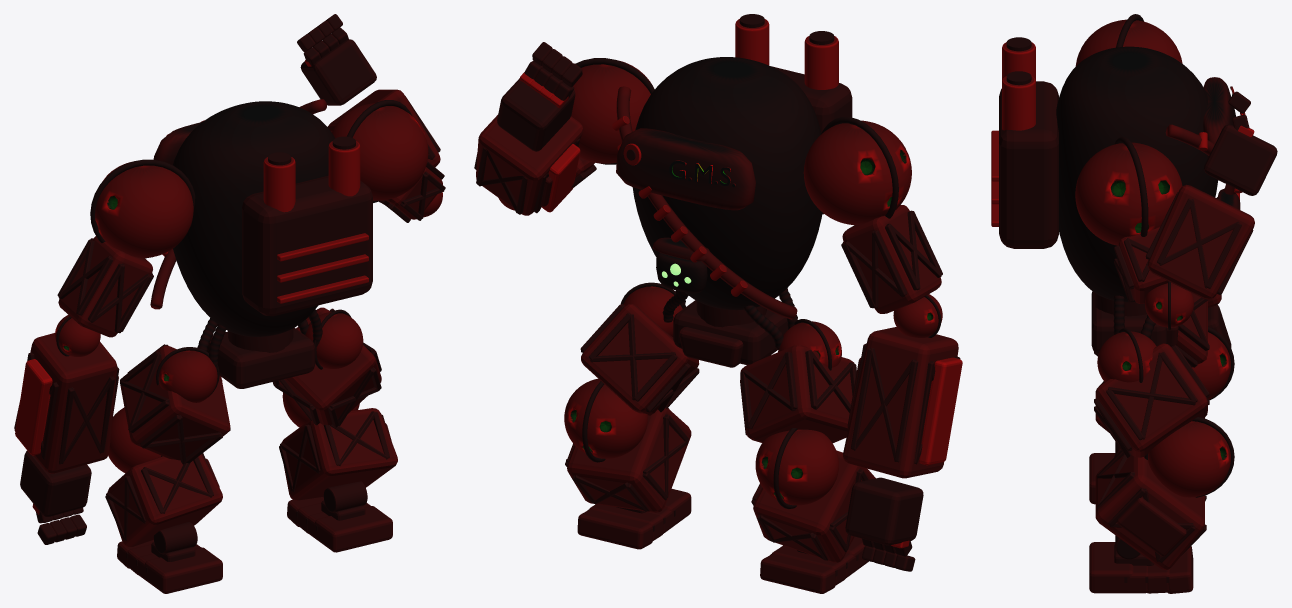
Rendered from mf_standard_pattern_i_everest.glb.
The picture shows the model from 3 angles, left to right: view 1: azimuth 30°, elevation 25°; view 2: azimuth 150°, elevation 25°; view 3: azimuth 270°, elevation 25°; orthographic projection. The views are drawn at different scales.
Parts seen in each view (by area): view 1: chest, reactor, shoulder_pod_l, fore_l, shoulder_pod_r, shin_r, shin_l, thigh_l, pelvis_block, upper_l, thigh_r, palm_r (+21 smaller); view 2: chest, fore_l, shoulder_pod_l, chest_plate, thigh_l, shin_r, thigh_r, shoulder_pod_r, knee_pod_l, shin_l, fore_r, knee_pod_r (+26 smaller); view 3: chest, reactor, shoulder_pod_r, fore_r, thigh_r, shin_r, knee_pod_r, palm_r, shoulder_pod_l, shin_r_plate, hip_pod_r, heel_r (+27 smaller).
Part boxes in pixels (box(x1,y1,x2,y2)): chest: box(173, 101, 334, 336); reactor: box(242, 175, 372, 316); shoulder_pod_l: box(95, 162, 193, 257); fore_l: box(14, 333, 117, 473); shoulder_pod_r: box(332, 103, 428, 200); shin_r: box(281, 408, 397, 500); shin_l: box(107, 454, 222, 547); thigh_l: box(120, 345, 230, 460); pelvis_block: box(207, 328, 315, 388); upper_l: box(58, 236, 152, 337); thigh_r: box(278, 307, 381, 425); palm_r: box(300, 39, 376, 105); chest: box(632, 57, 822, 310); fore_l: box(843, 327, 958, 478); shoulder_pod_l: box(803, 120, 911, 225); chest_plate: box(616, 128, 755, 210); thigh_l: box(740, 345, 854, 443); shin_r: box(567, 408, 691, 512); thigh_r: box(581, 304, 699, 415); shoulder_pod_r: box(571, 60, 652, 163); knee_pod_l: box(755, 429, 838, 505); shin_l: box(753, 450, 875, 562); fore_r: box(476, 115, 583, 215); knee_pod_r: box(564, 378, 647, 458); chest: box(1056, 46, 1218, 302); reactor: box(999, 81, 1058, 248); shoulder_pod_r: box(1075, 142, 1182, 245); fore_r: box(1147, 184, 1254, 299); thigh_r: box(1095, 343, 1207, 457); shin_r: box(1095, 454, 1204, 569); knee_pod_r: box(1148, 421, 1230, 497); palm_r: box(1204, 124, 1277, 195); shoulder_pod_l: box(1075, 19, 1182, 66); shin_r_plate: box(1117, 497, 1186, 556); hip_pod_r: box(1097, 331, 1156, 382); heel_r: box(1089, 542, 1133, 593).
Bounding box in the file's own units: 1.04 × 1.12 × 0.5706.
